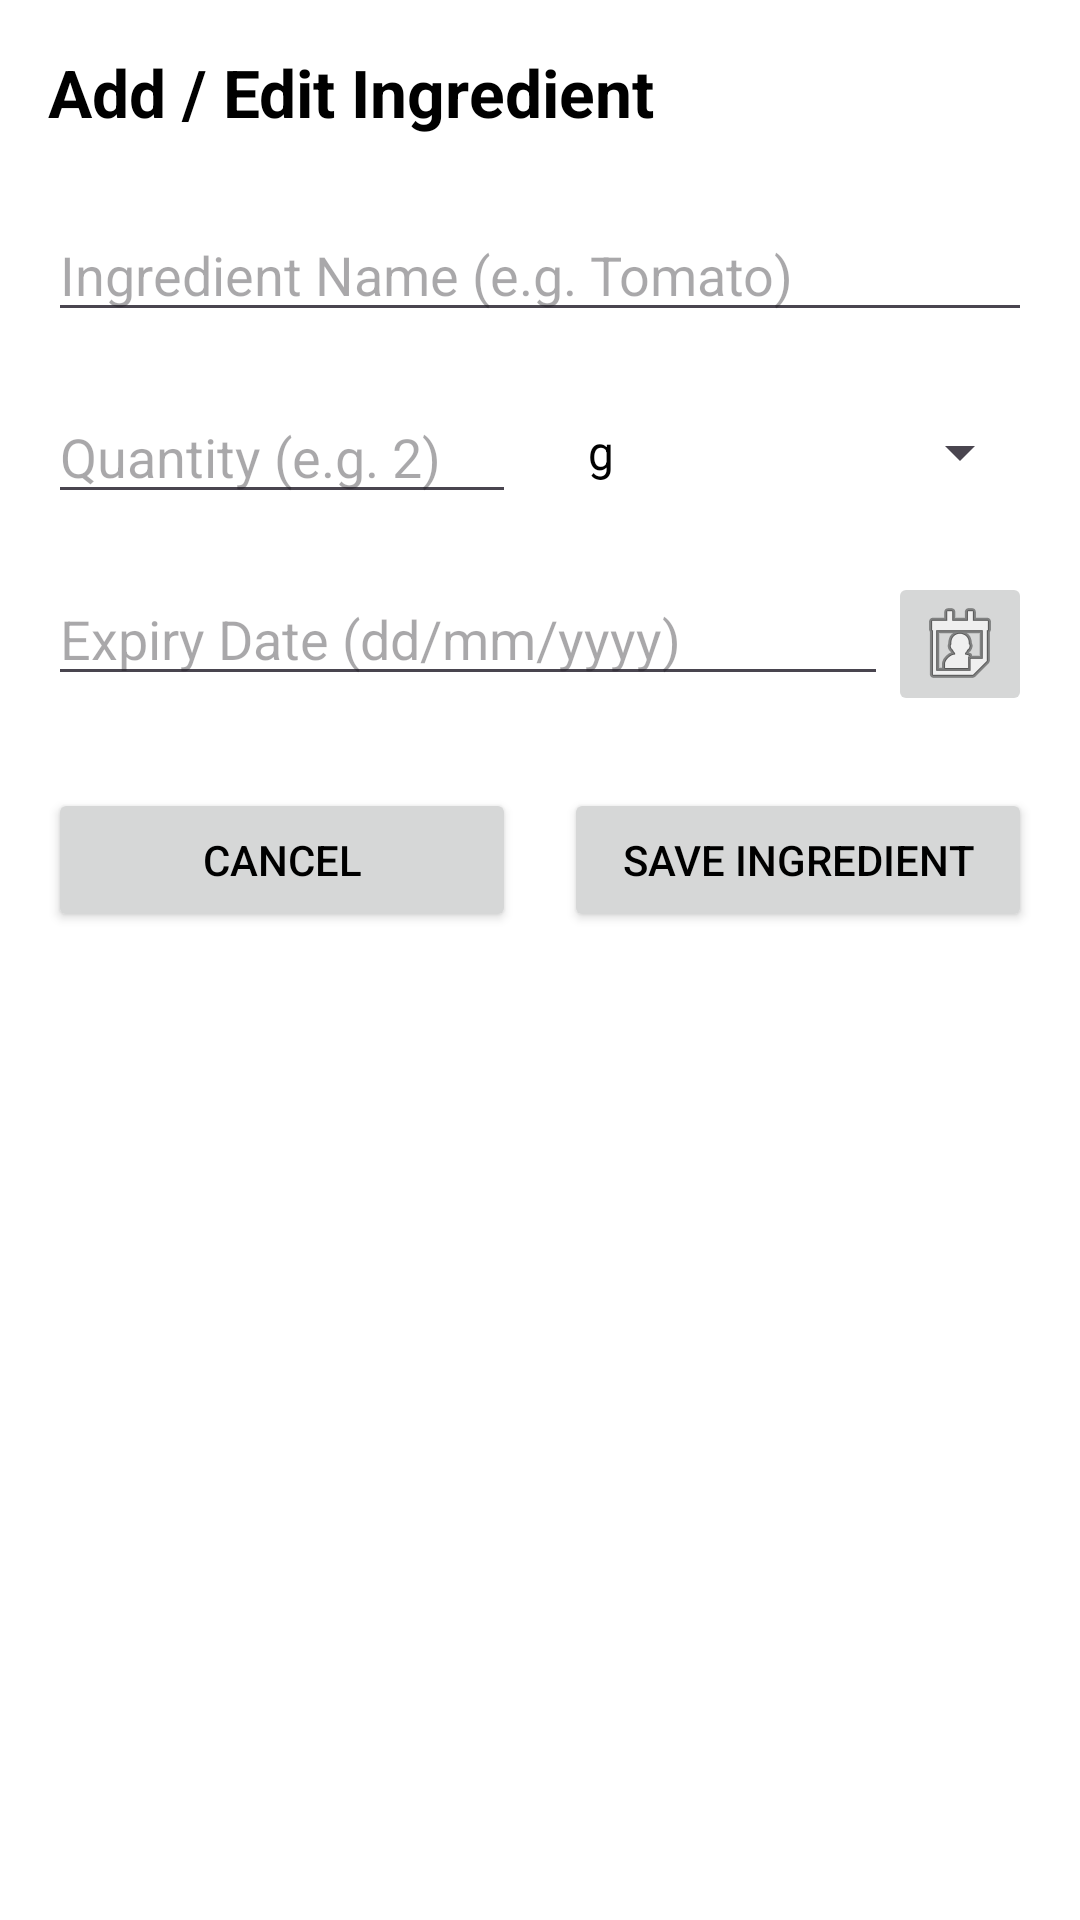

Icons on this 1080w x 1920h Android screen, each with its box as (x1, y1, x2, y2):
Select Date: (900, 590, 1020, 698)
